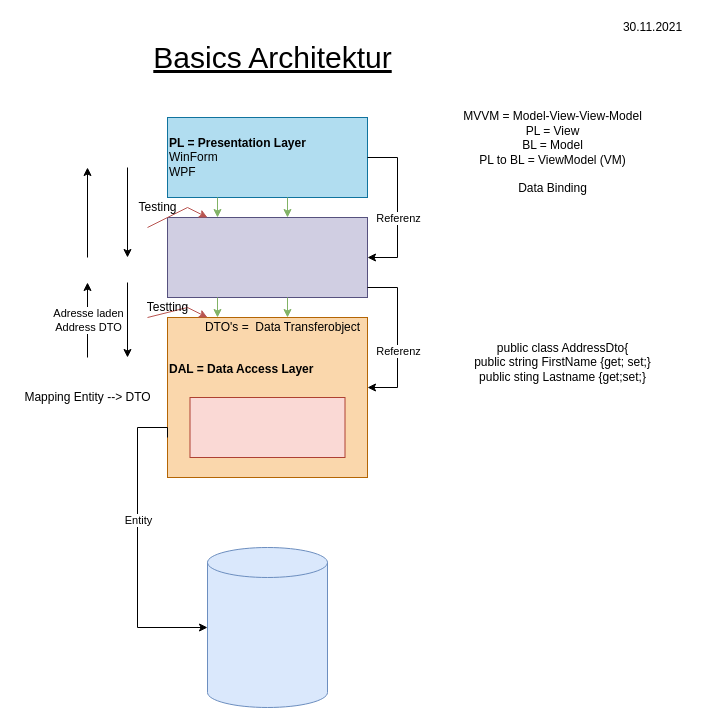
Some shapes in this 704 by 725 pixel diagram are drawn without their labels. The centre of each missing label's shape, as x and y in pixels:
BL = Business Layer Classlibary Business Logik: point 267,257
EF = Entity Framework: point 267,427
